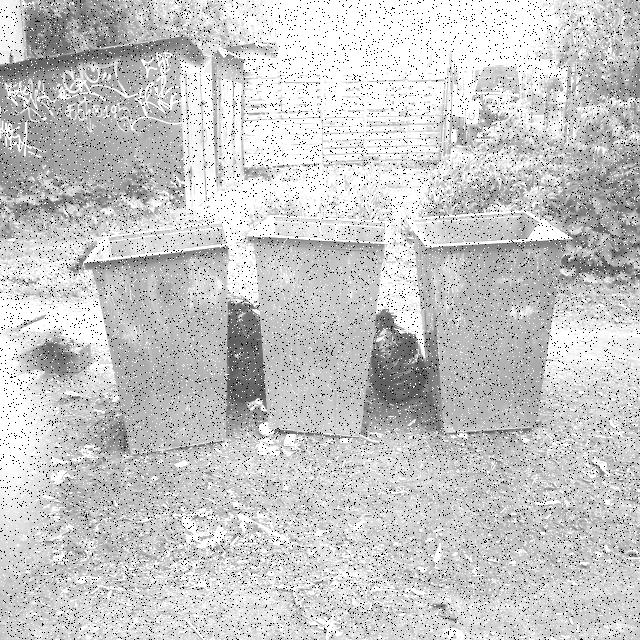Trashcan: (408, 195, 578, 448), (90, 210, 252, 460), (245, 196, 395, 455)
